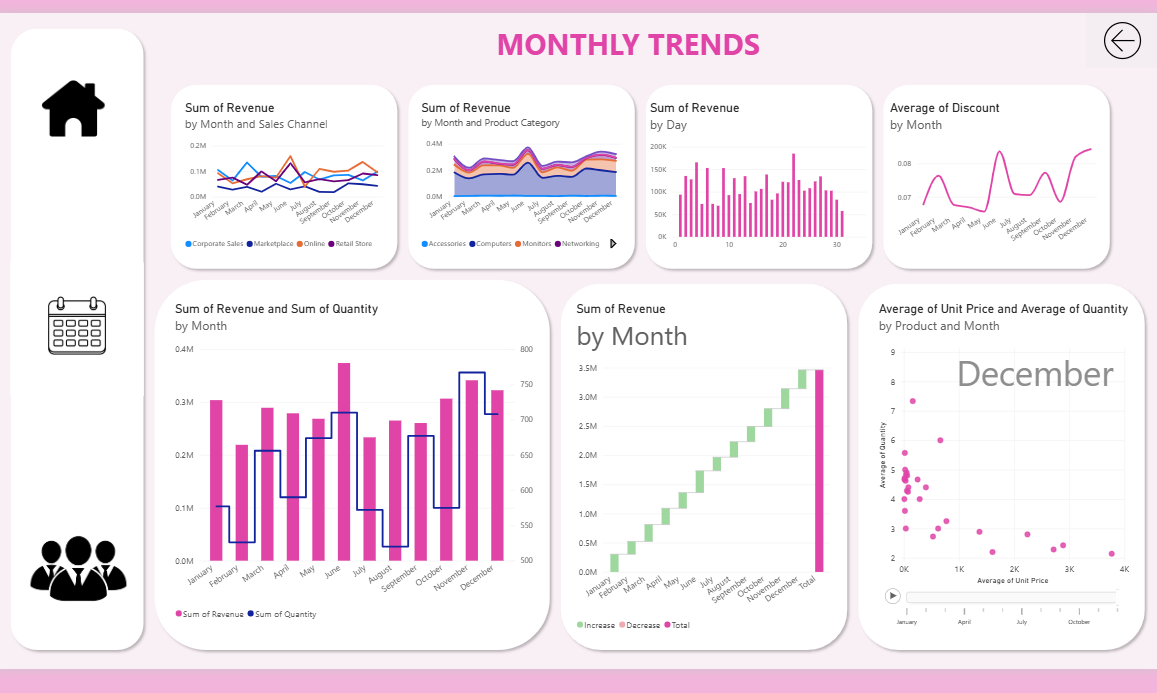

What the dashboard file says about the page in this screenshot:
{"tool":"powerbi","page":{"name":"Monthly Trends","canvas":[1920,1080],"ordinal":7},"visuals":[{"type":"shape","box":[18.5,16.5,236.7,1041.5],"z":0},{"type":"shape","box":[282,109.1,391.1,321.1],"z":1000},{"type":"shape","box":[673.1,109.1,391.1,321.1],"z":2000},{"type":"shape","box":[1064.2,109.1,391.1,321.1],"z":3000},{"type":"shape","box":[1455.2,109.1,391.1,321.1],"z":4000},{"type":"shape","box":[255.2,430.2,669,627.8],"z":5000},{"type":"shape","box":[1414.1,436.4,489.9,621.6],"z":6000},{"type":"shape","box":[924.2,436.4,489.9,621.6],"z":7000},{"type":"actionButton","box":[1796.5,0,123.5,90.6],"z":8000},{"type":"image","box":[37,45.3,187.3,224.4],"z":9000},{"type":"lineChart","fields":{"Category":["Data.Date.Variation.Date Hierarchy.Month"],"Series":["Data.Sales Channel"],"Y":["Sum(Data.Revenue)"]},"box":[298.5,129.7,358.1,279.9],"z":10000},{"type":"lineClusteredColumnComboChart","fields":{"Category":["Data.Date.Variation.Date Hierarchy.Month"],"Y":["Sum(Data.Revenue)"],"Y2":["Sum(Data.Quantity)"]},"box":[282,461.1,623.7,557.8],"z":11000},{"type":"stackedAreaChart","fields":{"Category":["Data.Date.Variation.Date Hierarchy.Year","Data.Date.Variation.Date Hierarchy.Quarter","Data.Date.Variation.Date Hierarchy.Month","Data.Date.Variation.Date Hierarchy.Day"],"Series":["Data.Product Category"],"Y":["Sum(Data.Revenue)"]},"box":[687.5,129.7,362.3,279.9],"z":12000},{"type":"waterfallChart","fields":{"Category":["Data.Date.Variation.Date Hierarchy.Year","Data.Date.Variation.Date Hierarchy.Quarter","Data.Date.Variation.Date Hierarchy.Month","Data.Date.Variation.Date Hierarchy.Day"],"Y":["Sum(Data.Revenue)"]},"box":[942.7,461.1,450.8,576.3],"z":13000},{"type":"columnChart","fields":{"Category":["Data.Date.Variation.Date Hierarchy.Day"],"Y":["Sum(Data.Revenue)"]},"box":[1064.2,129.7,391.1,279.9],"z":14000},{"type":"lineChart","fields":{"Category":["Data.Date.Variation.Date Hierarchy.Month"],"Y":["Avg(Data.Discount)"]},"box":[1459.4,129.7,372.6,279.9],"z":15000},{"type":"scatterChart","fields":{"Category":["Data.Product"],"Play":["Data.Date.Variation.Date Hierarchy.Month"],"X":["Avg(Data.Unit Price)"],"Y":["Avg(Data.Quantity)"]},"box":[1440.8,461.1,444.6,576.3],"z":16000},{"type":"image","box":[37,817.2,203.8,195.5],"z":17000},{"type":"image","box":[26.8,393.1,220.2,255.2],"z":18000},{"type":"textbox","box":[564,16.5,961.2,92.6],"z":18001}]}

Visuals, with their boxes on the page's 1920x1080 design canvas (x1, y1, x2, y2). These are canvas units, not pixel positions in the 1157x693 screenshot, which may show the page scaled, cropped or inside an application window:
shape: (x1=18, y1=16, x2=255, y2=1058)
shape: (x1=282, y1=109, x2=673, y2=430)
shape: (x1=673, y1=109, x2=1064, y2=430)
shape: (x1=1064, y1=109, x2=1455, y2=430)
shape: (x1=1455, y1=109, x2=1846, y2=430)
shape: (x1=255, y1=430, x2=924, y2=1058)
shape: (x1=1414, y1=436, x2=1904, y2=1058)
shape: (x1=924, y1=436, x2=1414, y2=1058)
actionButton: (x1=1796, y1=0, x2=1920, y2=91)
image: (x1=37, y1=45, x2=224, y2=270)
lineChart - Data.Date.Variation.Date Hierarchy.Month x Data.Sales Channel: (x1=298, y1=130, x2=657, y2=410)
lineClusteredColumnComboChart - Data.Date.Variation.Date Hierarchy.Month x Sum(Data.Revenue): (x1=282, y1=461, x2=906, y2=1019)
stackedAreaChart - Data.Date.Variation.Date Hierarchy.Year x Data.Date.Variation.Date Hierarchy.Quarter: (x1=688, y1=130, x2=1050, y2=410)
waterfallChart - Data.Date.Variation.Date Hierarchy.Year x Data.Date.Variation.Date Hierarchy.Quarter: (x1=943, y1=461, x2=1394, y2=1037)
columnChart - Data.Date.Variation.Date Hierarchy.Day x Sum(Data.Revenue): (x1=1064, y1=130, x2=1455, y2=410)
lineChart - Data.Date.Variation.Date Hierarchy.Month x Avg(Data.Discount): (x1=1459, y1=130, x2=1832, y2=410)
scatterChart - Data.Product x Data.Date.Variation.Date Hierarchy.Month: (x1=1441, y1=461, x2=1885, y2=1037)
image: (x1=37, y1=817, x2=241, y2=1013)
image: (x1=27, y1=393, x2=247, y2=648)
textbox: (x1=564, y1=16, x2=1525, y2=109)
